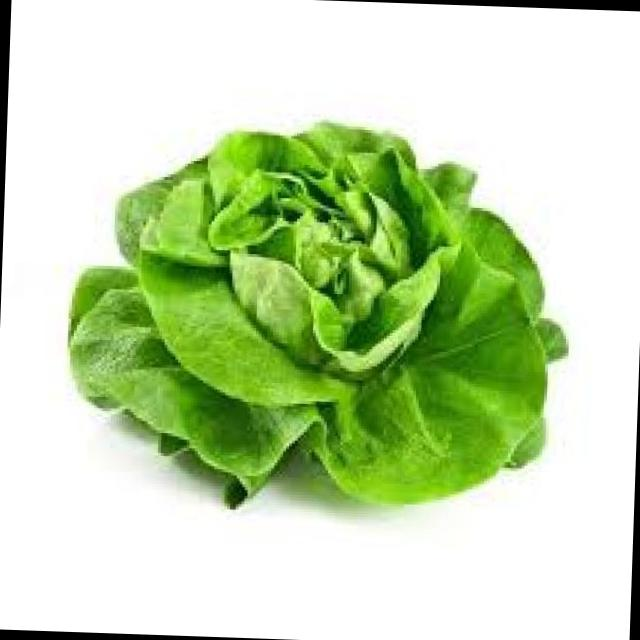Lettuce-Ready-to-Harvest: (70, 122, 567, 505)
